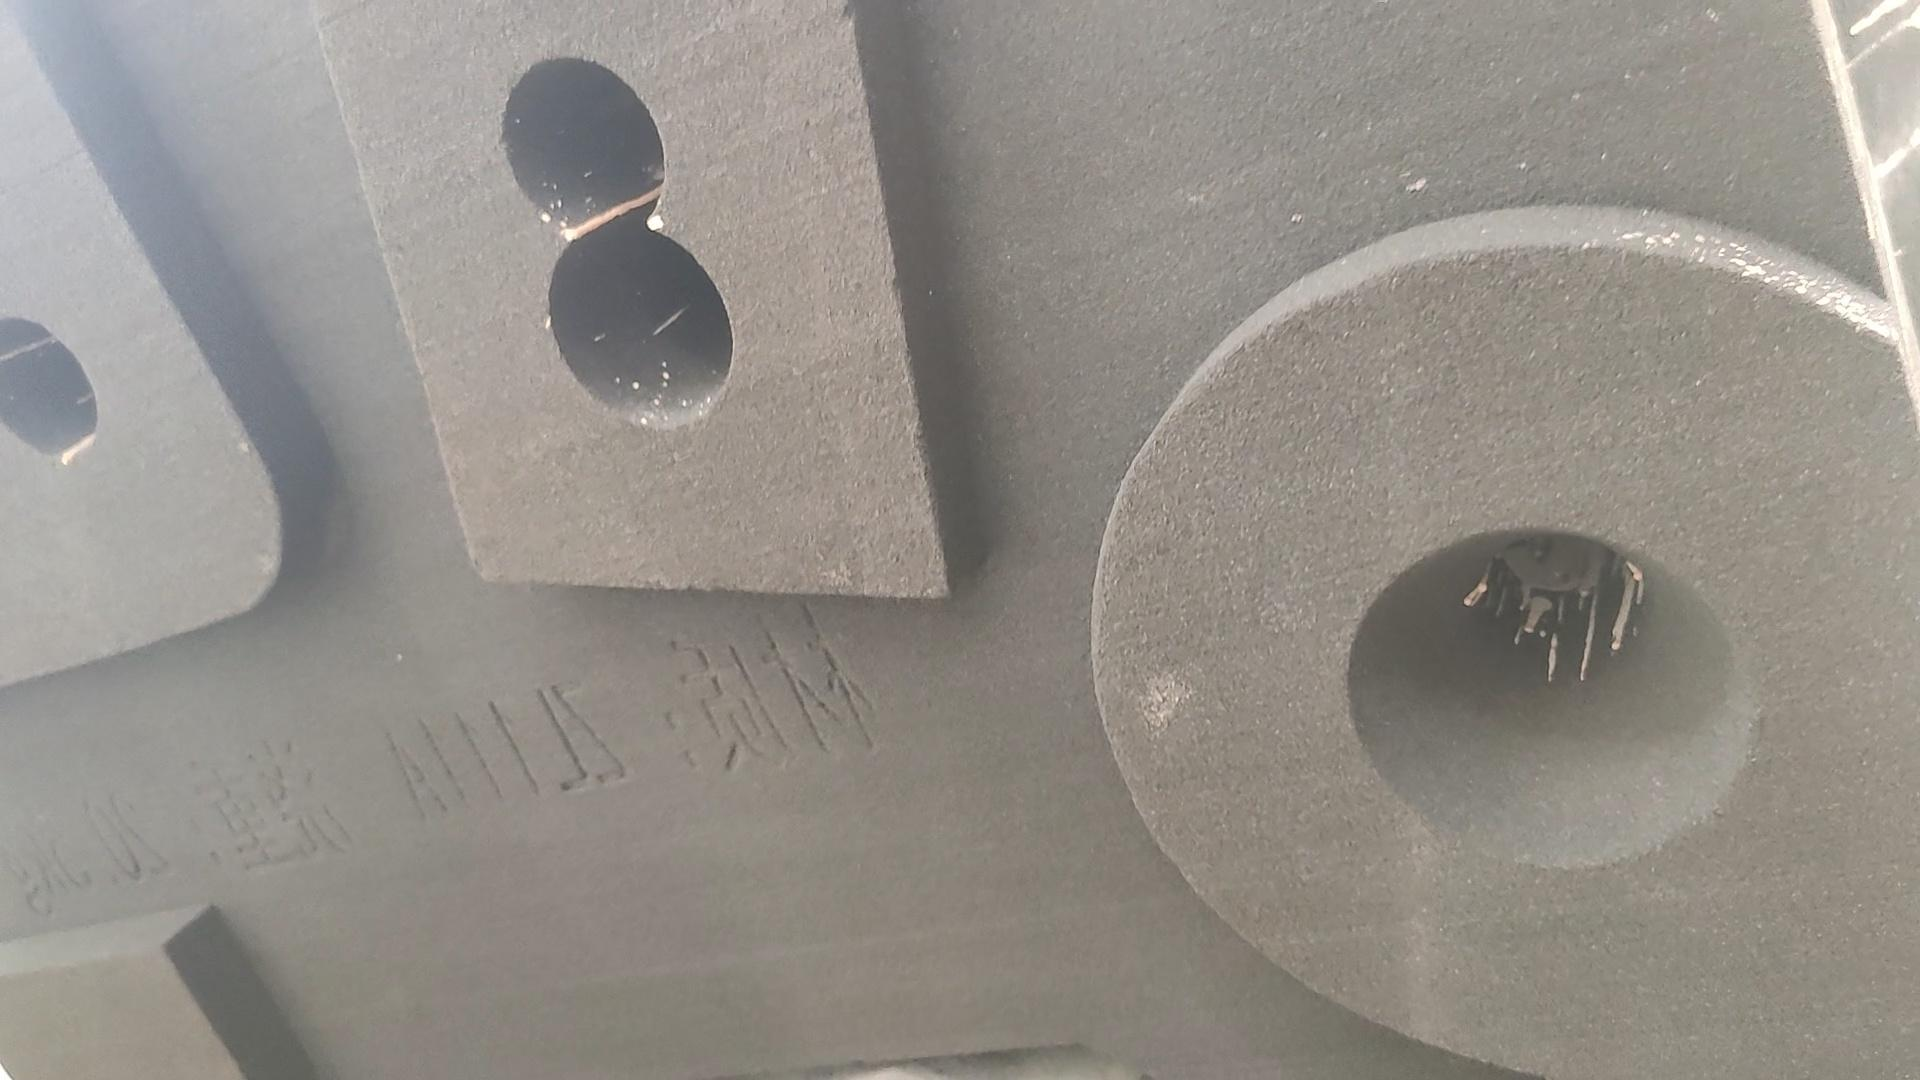pouring hole: (1346, 527, 1745, 864)
